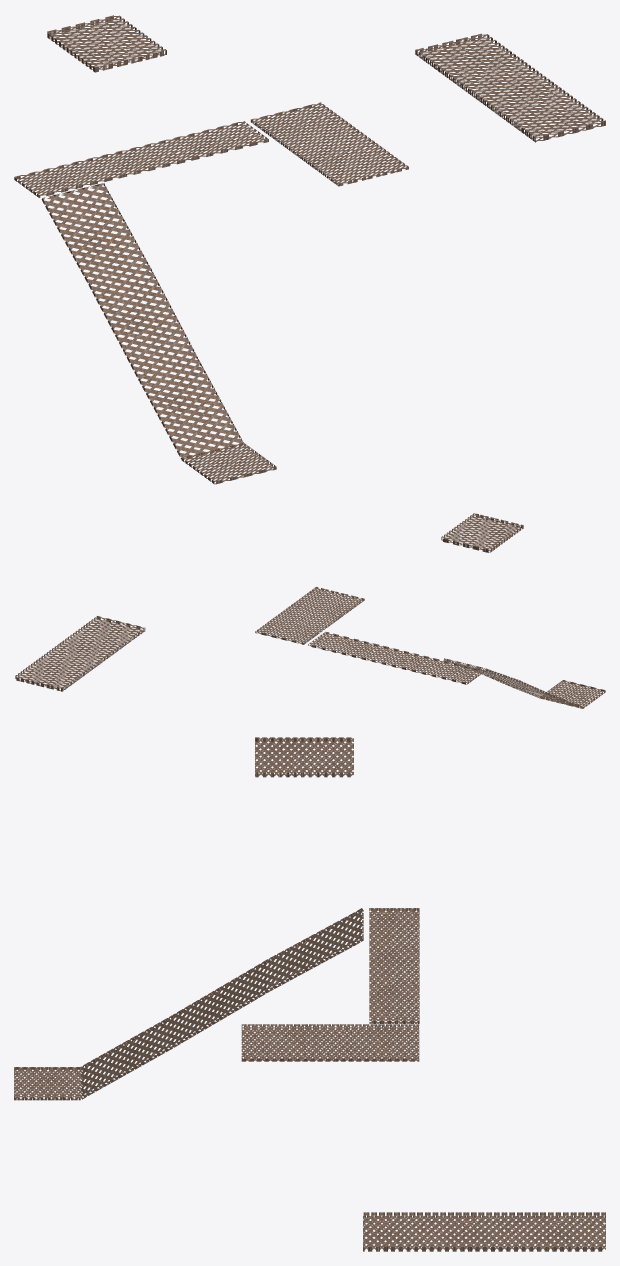
The model's file is SM_NeoLD_12_WireMesh_Col.fbx.
3 views of the same model, one above another, from view 1: azimuth 30°, elevation 25°; view 2: azimuth 150°, elevation 25°; view 3: azimuth 270°, elevation 25° (orthographic). The views are drawn at different scales.
Parts seen in each view (by area): view 1: SM_NeoLD_12_WireMesh_Col; view 2: SM_NeoLD_12_WireMesh_Col; view 3: SM_NeoLD_12_WireMesh_Col.
Boxes of the visible parts, left/top/right/bottom form: SM_NeoLD_12_WireMesh_Col: left=14, top=15, right=605, bottom=484; SM_NeoLD_12_WireMesh_Col: left=15, top=513, right=605, bottom=708; SM_NeoLD_12_WireMesh_Col: left=14, top=737, right=605, bottom=1251.
Bounding box in the file's own units: 2541 × 1417 × 2288.
